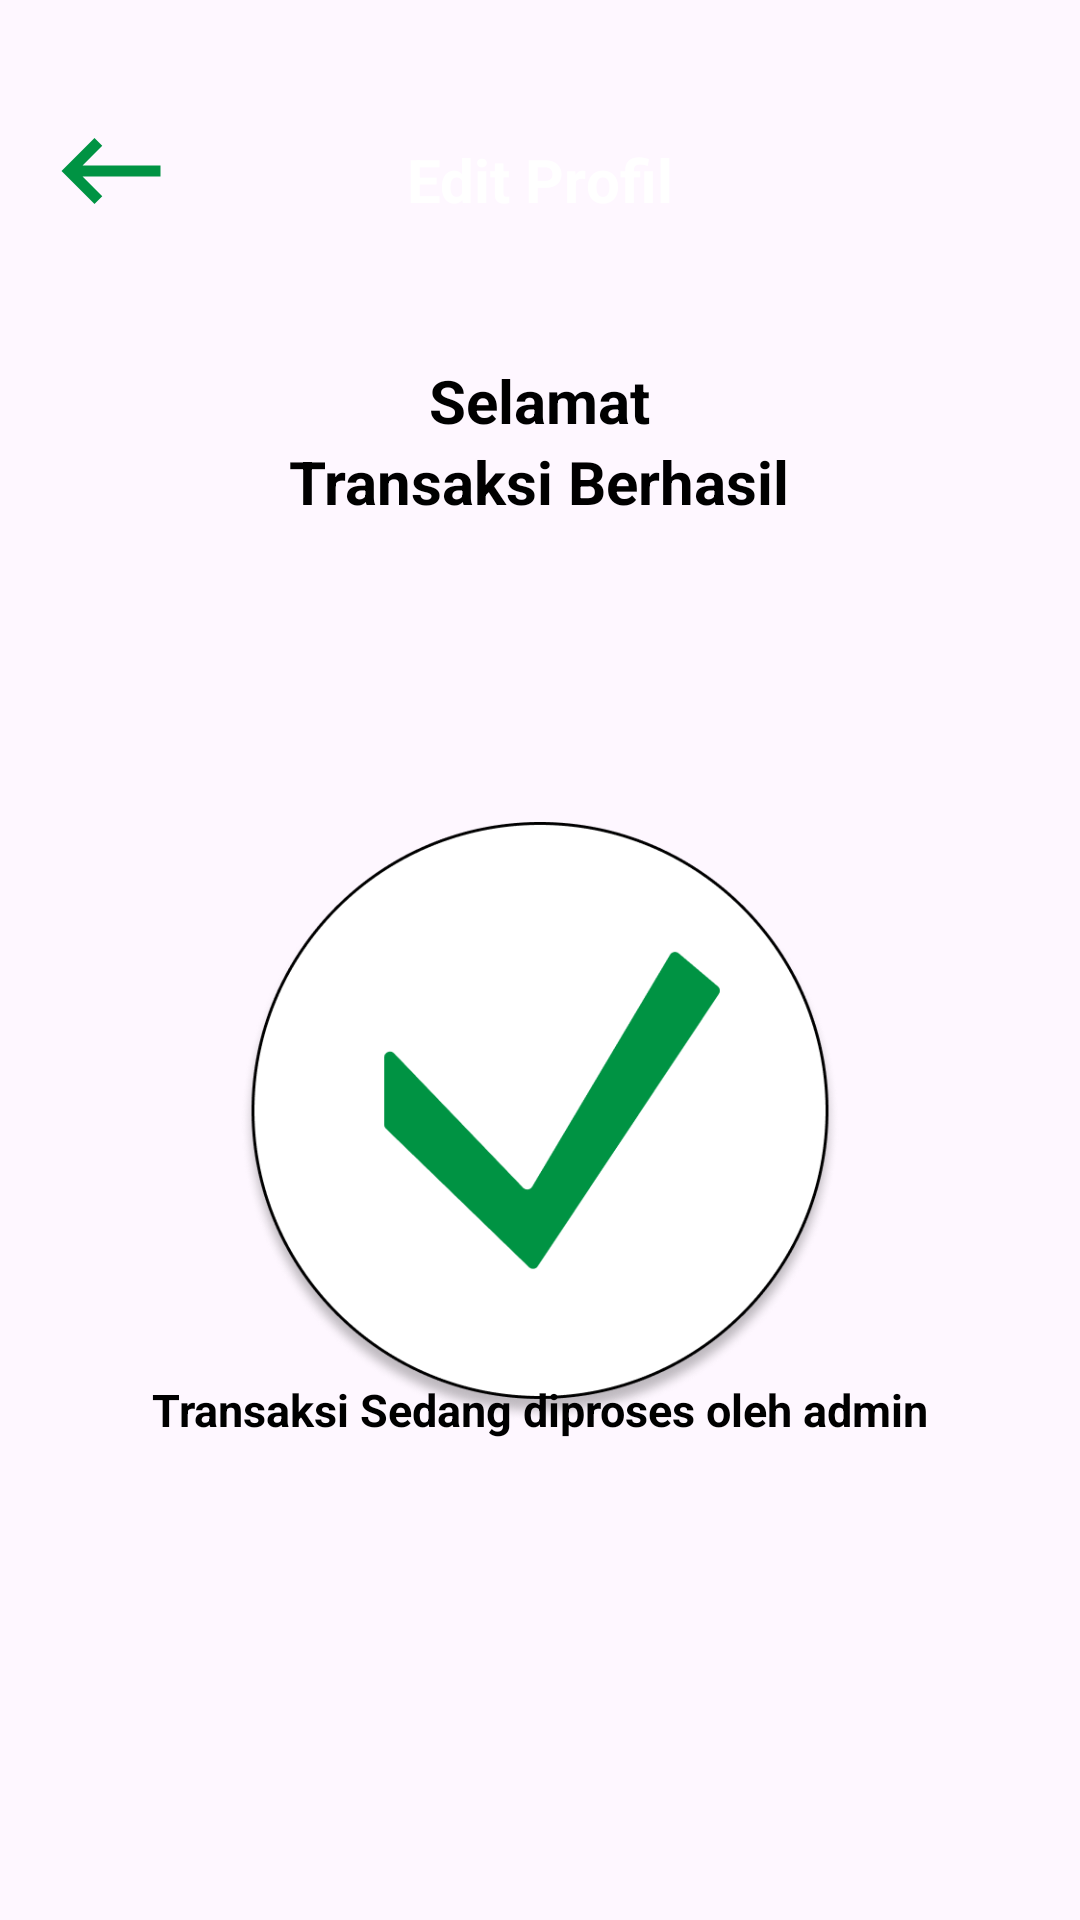

Named icons in this screenshot (1080w x 1920h) and their centers, (x,y):
keyboard backspace: (111,171)
